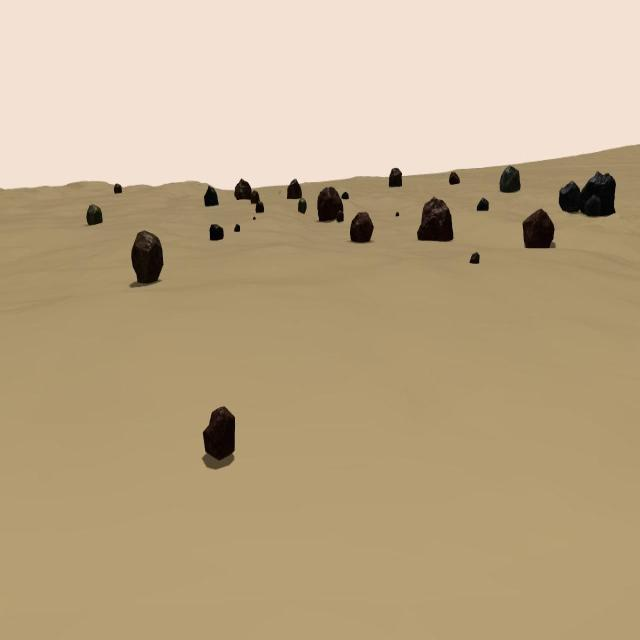rock: (417, 196, 454, 242), (579, 172, 616, 218), (132, 230, 163, 284), (203, 408, 235, 460), (522, 209, 555, 248), (318, 186, 343, 222), (350, 211, 373, 242), (558, 182, 581, 212), (500, 166, 521, 193), (234, 178, 251, 201), (87, 205, 102, 225), (205, 184, 218, 206), (287, 179, 301, 199), (388, 167, 402, 187), (210, 225, 223, 241), (476, 197, 488, 210), (448, 172, 459, 185), (298, 198, 306, 214), (469, 251, 479, 263), (114, 182, 122, 194), (251, 190, 259, 202), (256, 201, 263, 213), (342, 190, 348, 198), (234, 224, 240, 230), (395, 212, 399, 216), (253, 217, 256, 220)
